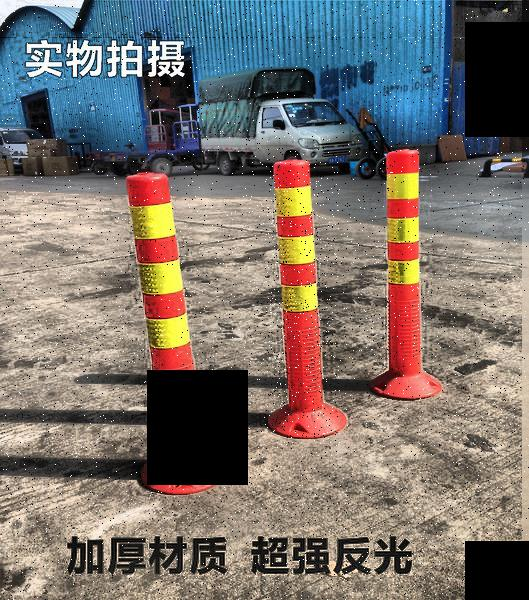bench: (265, 148, 340, 442), (371, 141, 441, 398)
